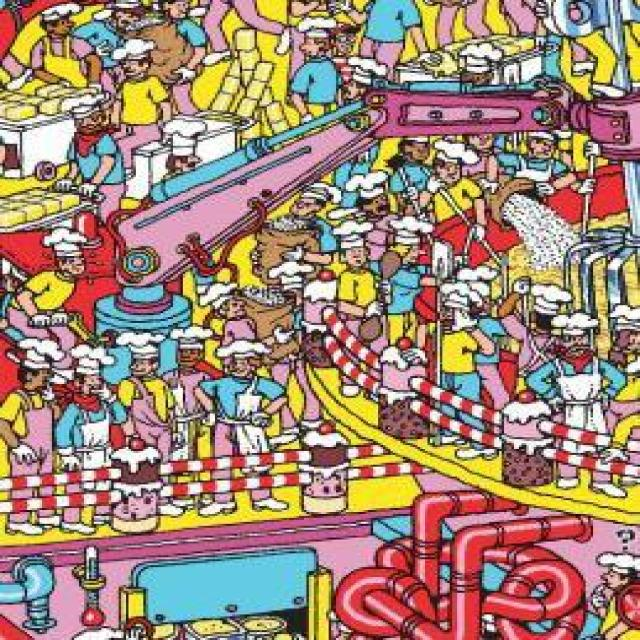waldo: (326, 22, 361, 53)
